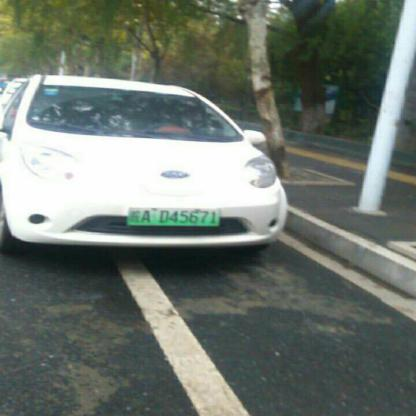lp: (127, 209, 222, 226)
